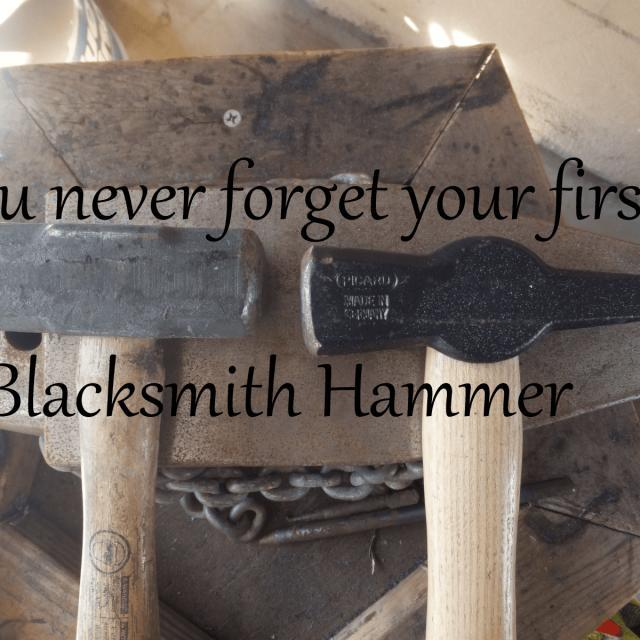hammer: (287, 232, 640, 640), (0, 216, 273, 640)
